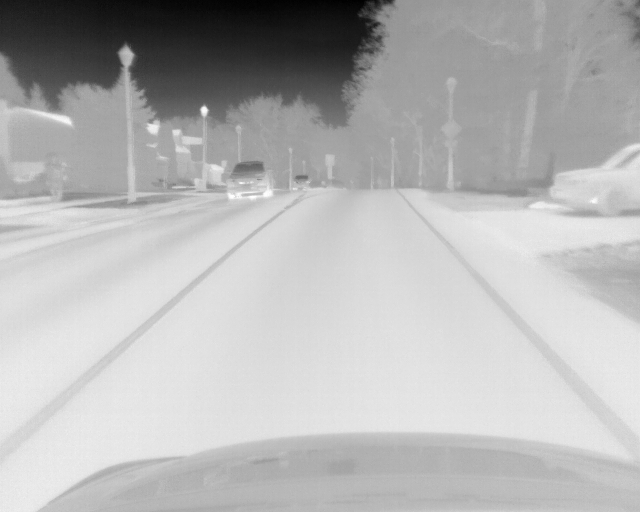car: (550, 142, 640, 217), (225, 160, 275, 200), (290, 174, 310, 192)
